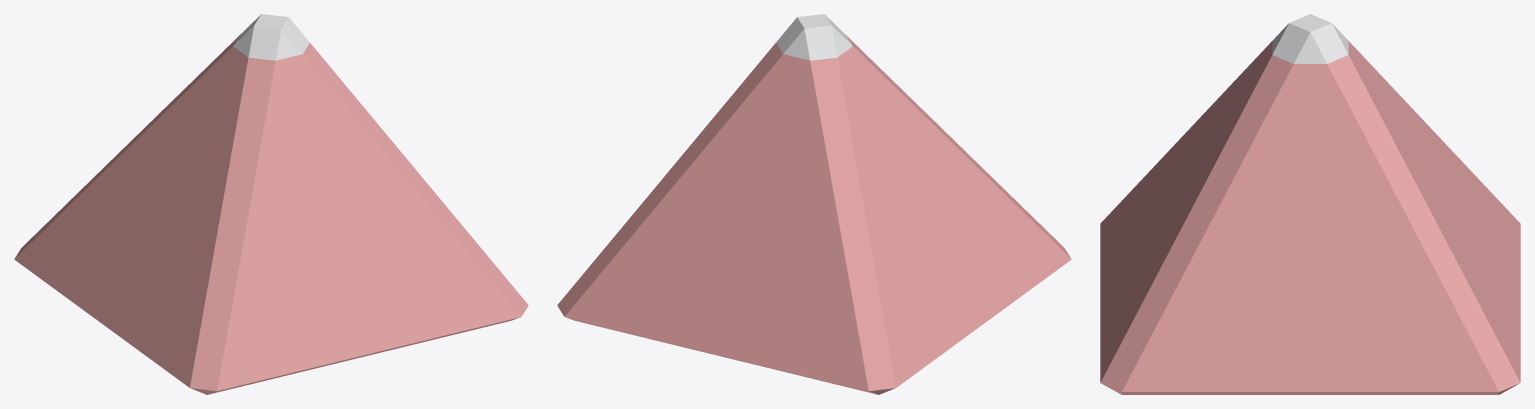
The model's file is Roof_Point_Red_01.glb.
3 renders of one model, left to right at view 1: azimuth 30°, elevation 25°; view 2: azimuth 150°, elevation 25°; view 3: azimuth 270°, elevation 25°, orthographic. The views are drawn at different scales.
Parts seen in each view (by area): view 1: Roof_Point_Red_01; view 2: Roof_Point_Red_01; view 3: Roof_Point_Red_01.
Part boxes in pixels (x1,y1,x2,y2): Roof_Point_Red_01: (14,14,528,394); Roof_Point_Red_01: (557,14,1071,394); Roof_Point_Red_01: (1100,14,1520,394).
Size of the model in its own units: 3.34 by 2.56 by 3.34.
